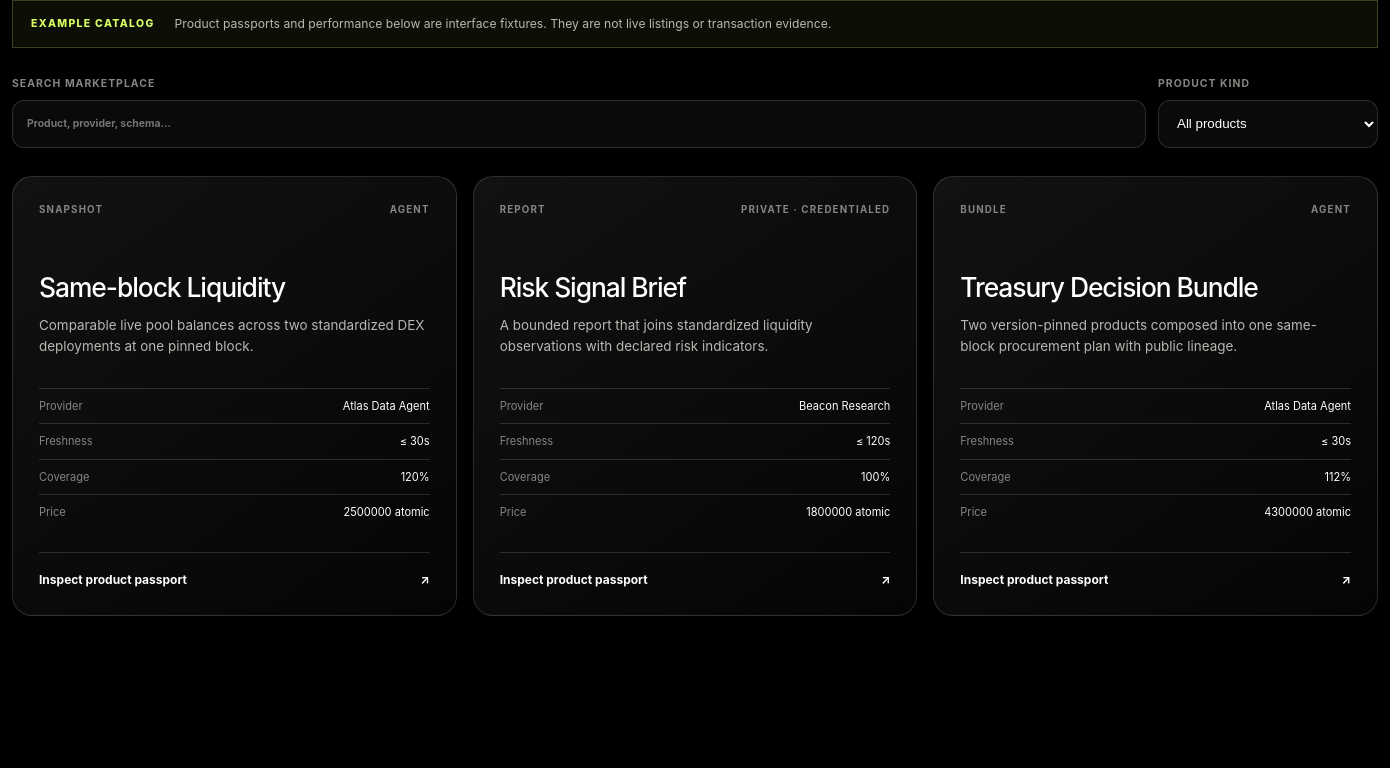
Scenario: marketplace experience › filters example products by product and provider text
Type "Atlas" into the search field.
click(579, 124); type("Atlas")  # box [12,100,1146,148]
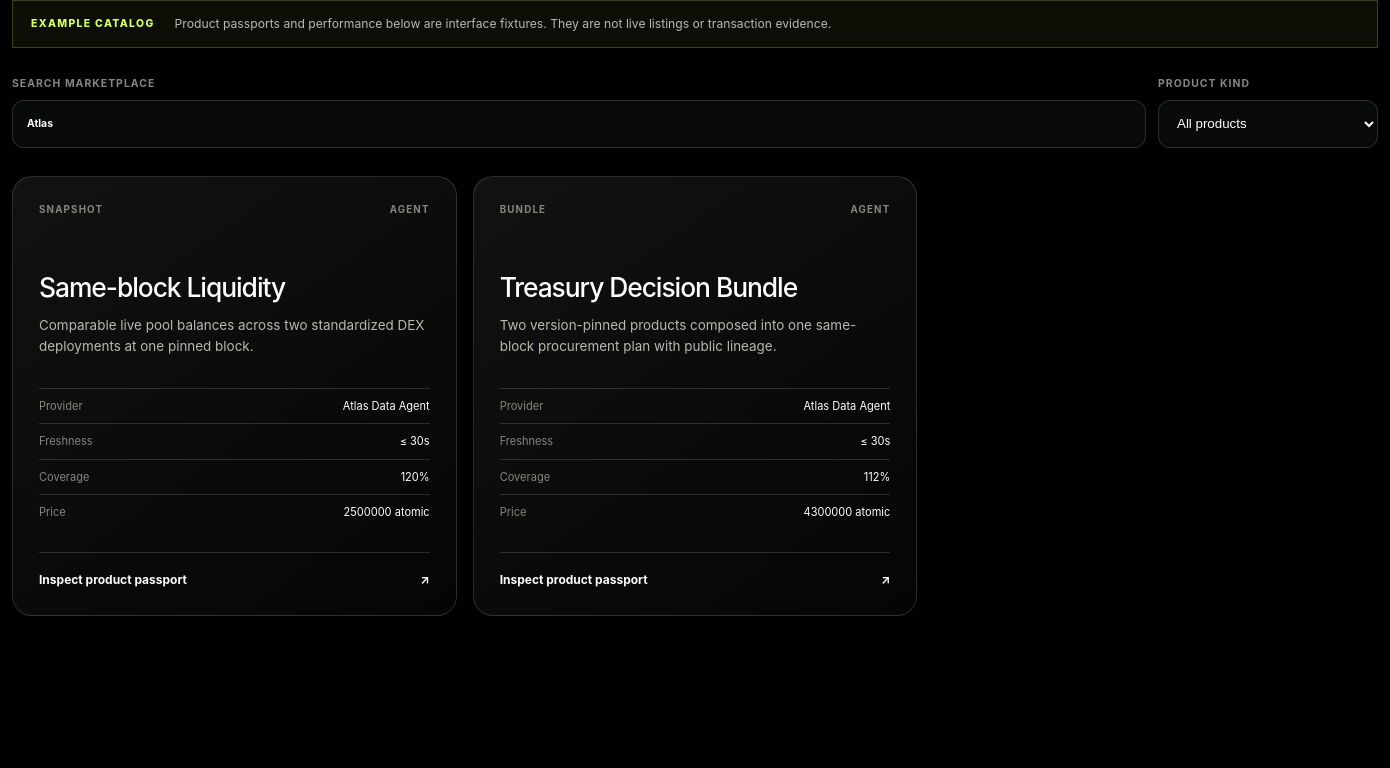
Now the heading "Risk Signal Brief" is gone
